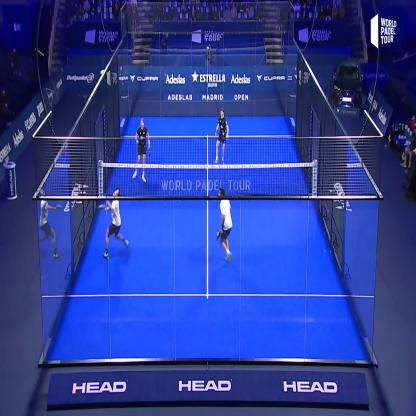ball: (99, 64, 107, 78)
